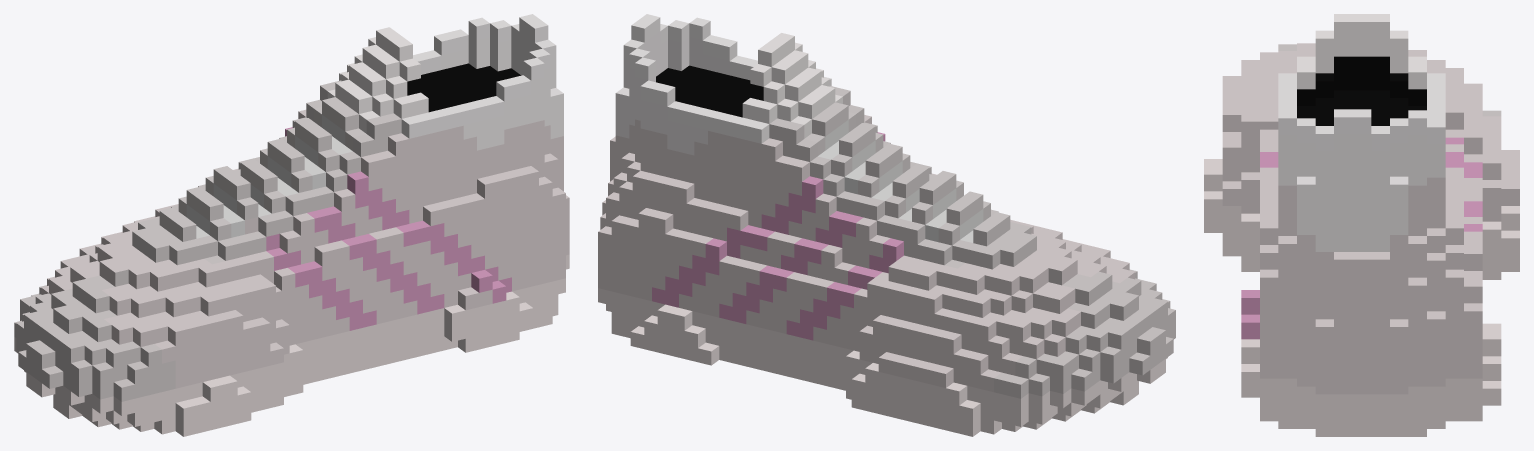
File: Pinky Cloud.fbx
The picture shows the model from 3 angles, left to right: view 1: azimuth 30°, elevation 25°; view 2: azimuth 150°, elevation 25°; view 3: azimuth 270°, elevation 25°; orthographic projection. The views are drawn at different scales.
Visible parts, largest first — view 1: Untitled; view 2: Untitled; view 3: Untitled.
Part boxes in pixels (<box>): Untitled: <box>14,14,569,436</box>; Untitled: <box>598,14,1175,436</box>; Untitled: <box>1204,14,1519,436</box>.
Size of the model in its own units: 390 by 200 by 170.
